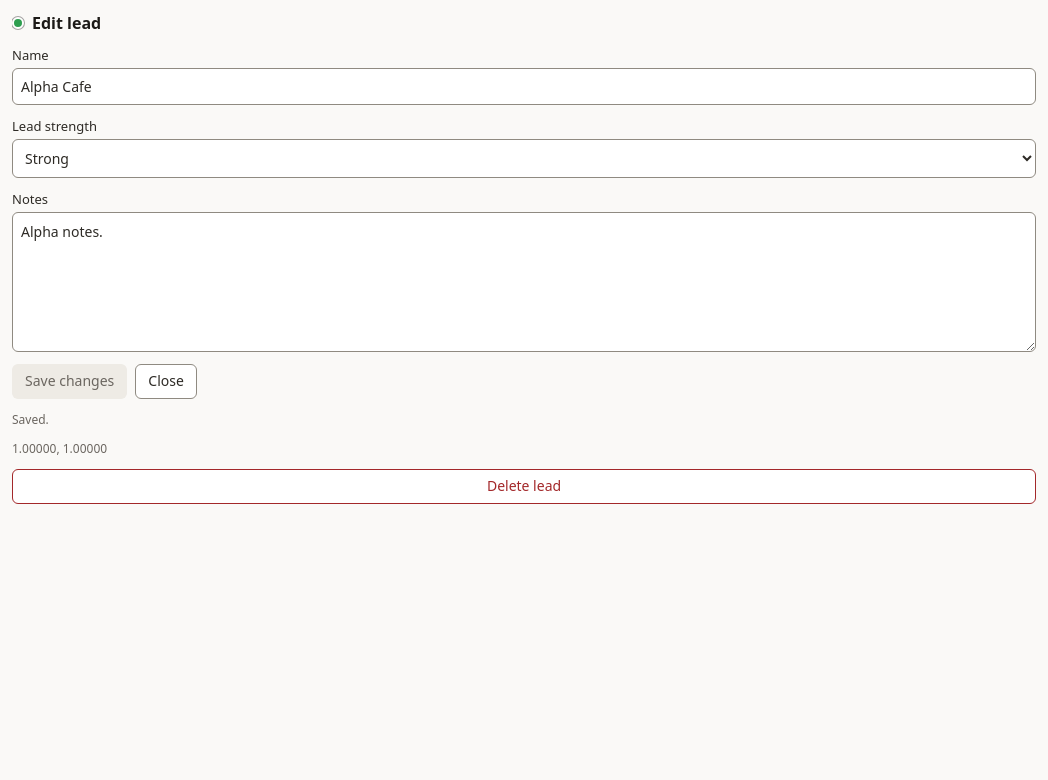
Test: PinEditor › resets an armed delete confirmation when remounted for a different pin
What coordinates should you click on to do the following:
click the button "Delete lead"
I would click on:
 (524, 486)
Its box is left=12, top=469, right=1036, bottom=504.
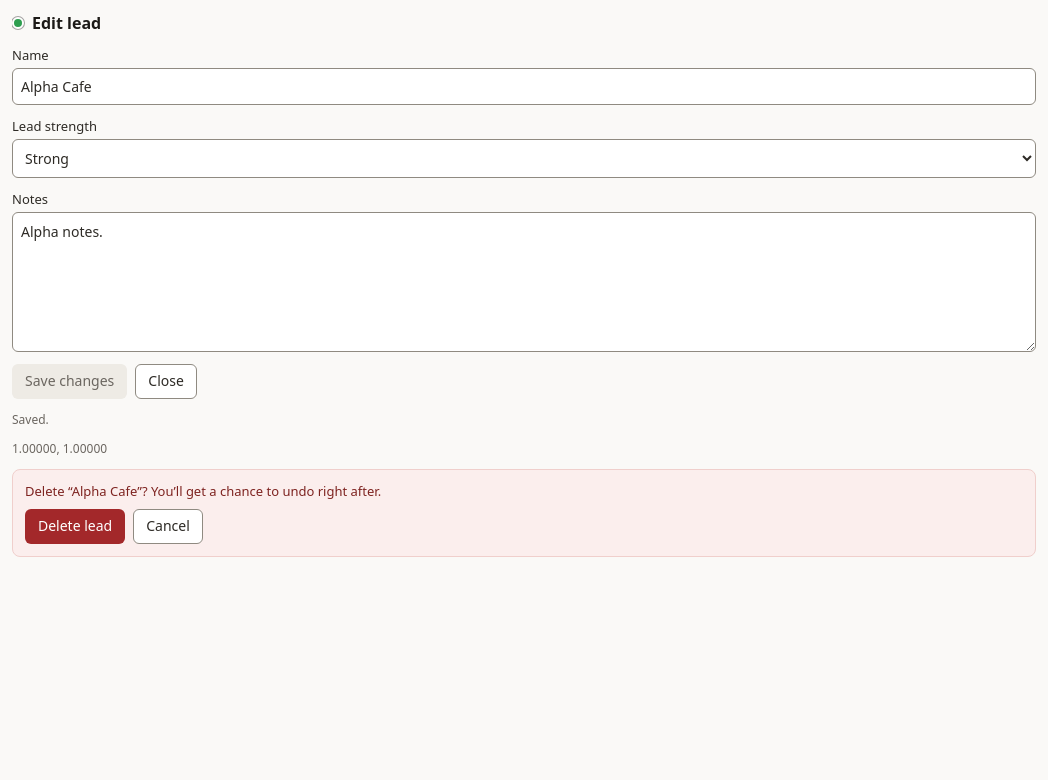
Now the text "Delete “Alpha Cafe”" is shown, box left=25, top=482, right=381, bottom=500
